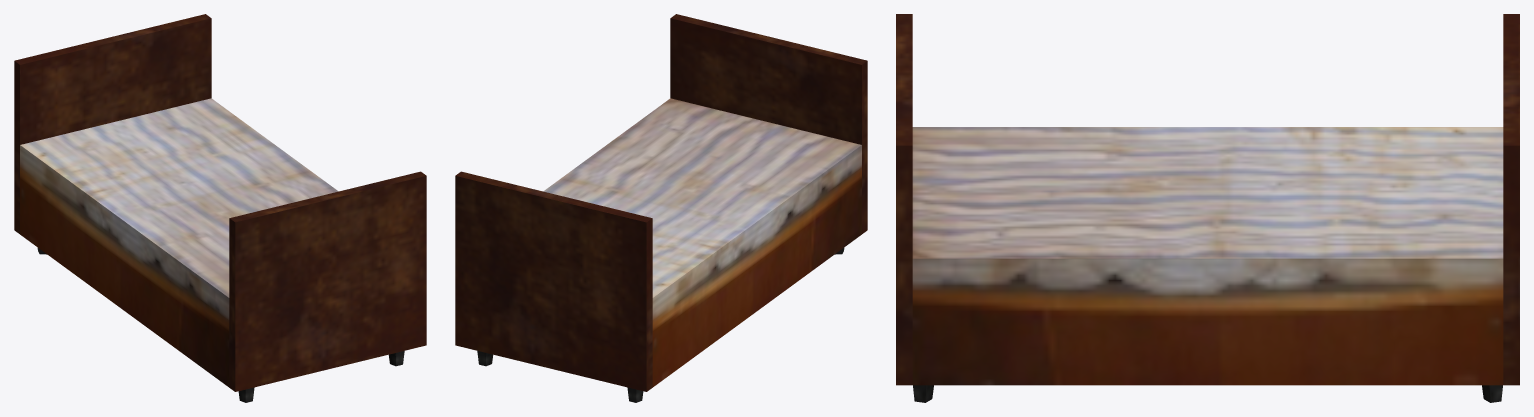
The model's file is small_bed.fbx.
3 views of the same model, side by side, from view 1: azimuth 30°, elevation 25°; view 2: azimuth 150°, elevation 25°; view 3: azimuth 270°, elevation 25° (orthographic). The views are drawn at different scales.
Parts seen in each view (by area): view 1: Bed, Cylinder; view 2: Bed, Cylinder; view 3: Bed, Cylinder.
Boxes of the visible parts, x1,y1,x2,y2 form: Bed: (14, 14, 426, 391); Cylinder: (37, 248, 404, 402); Bed: (455, 14, 867, 391); Cylinder: (477, 248, 844, 402); Bed: (896, 14, 1519, 385); Cylinder: (913, 385, 1502, 402).
Size of the model in its own units: 100 by 94.6 by 200.
1 material, 1 textured.
